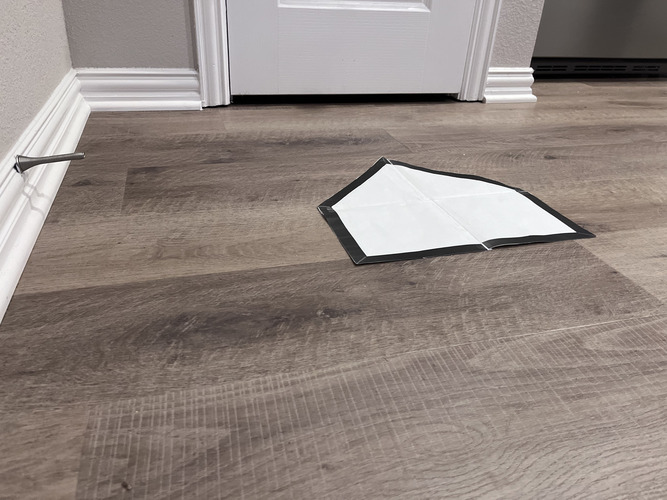homeplate: (318, 153, 595, 268)
